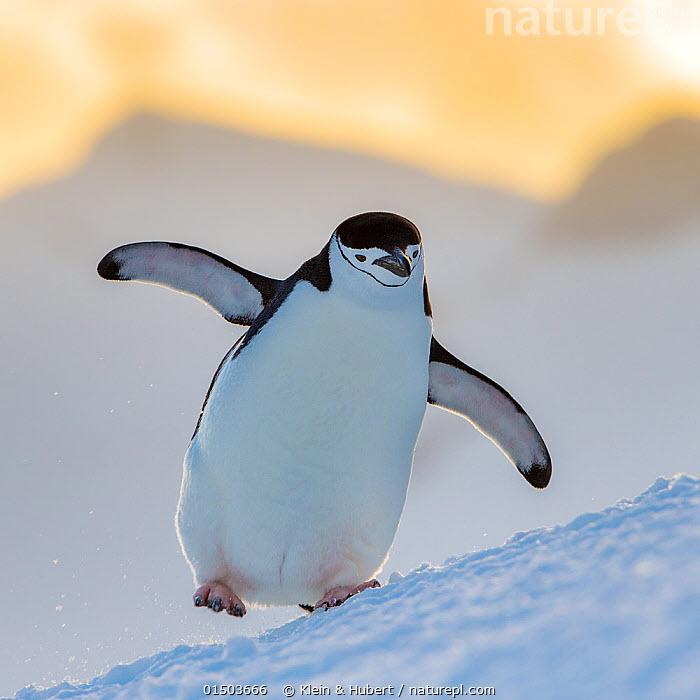chinstrap: (79, 193, 576, 658)
